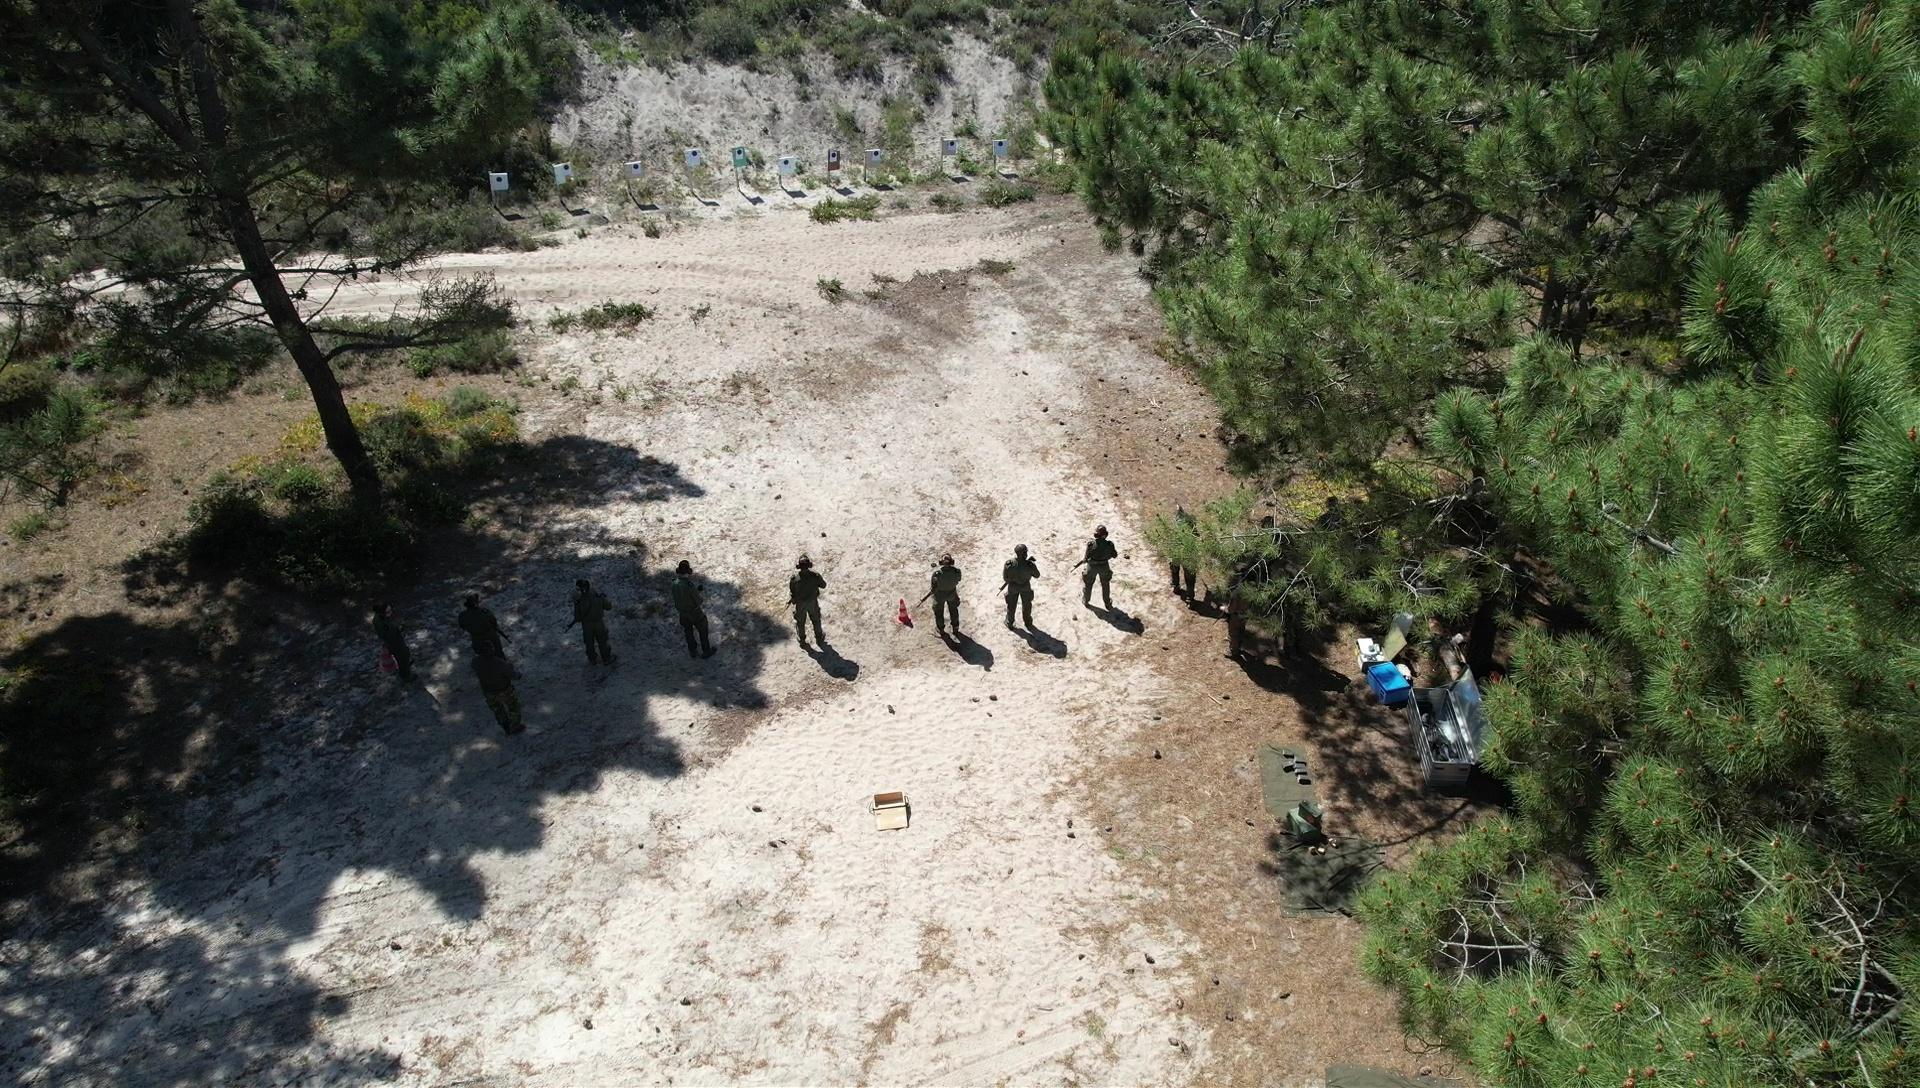Soldier: (460, 633, 535, 742), (669, 562, 727, 686), (781, 547, 837, 658), (564, 572, 622, 678), (365, 586, 425, 683), (997, 533, 1044, 644), (996, 543, 1044, 641), (459, 601, 512, 691), (1077, 516, 1122, 620)
